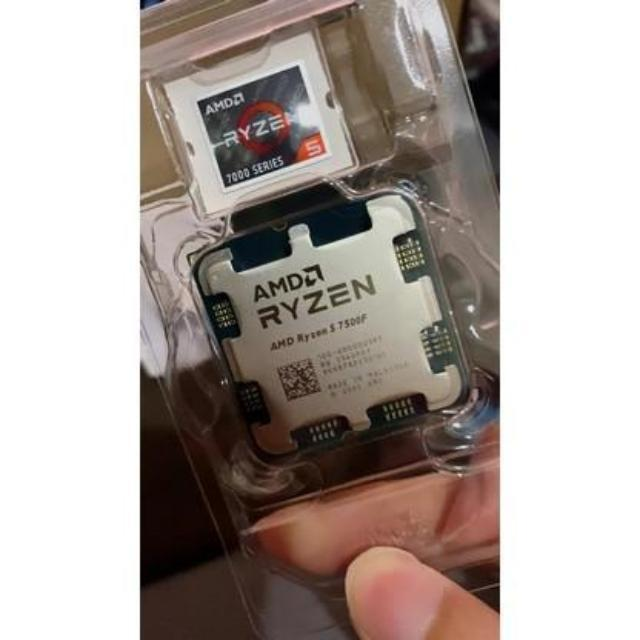CPU: (202, 206, 460, 452)
